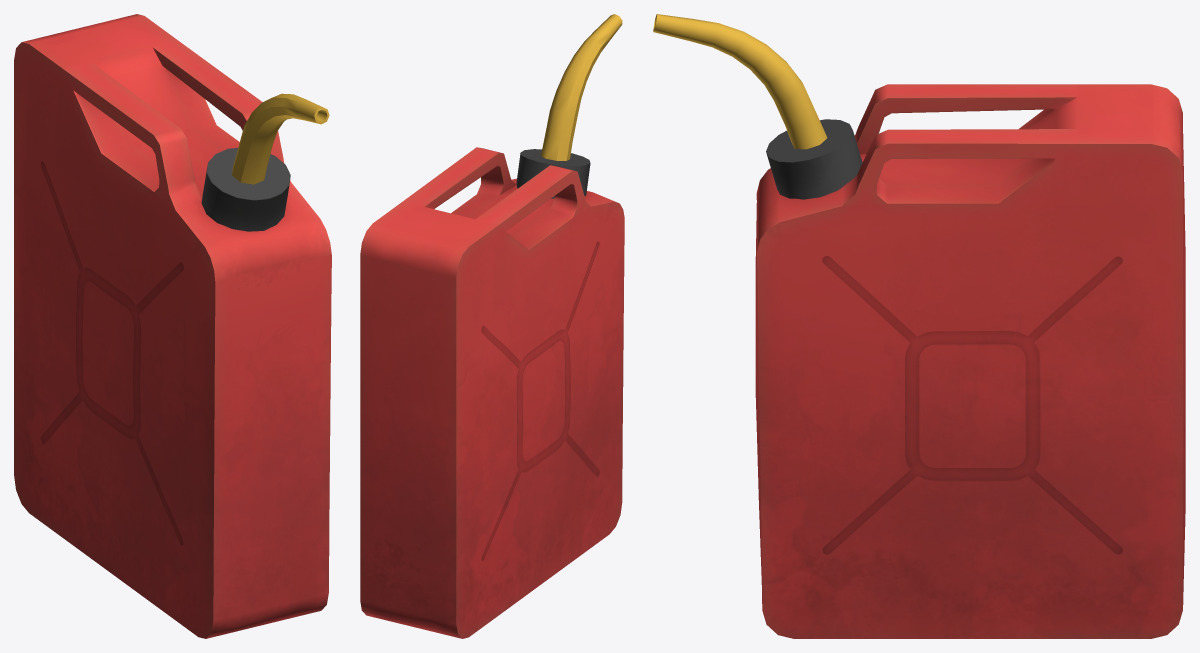
File: jerry can.glb
3 views of the same model, side by side, from view 1: azimuth 30°, elevation 25°; view 2: azimuth 150°, elevation 25°; view 3: azimuth 270°, elevation 25° (orthographic). The views are drawn at different scales.
Visible parts, largest first — view 1: Object_2; view 2: Object_2; view 3: Object_2.
Part boxes in pixels (left/top/right/bottom): Object_2: left=14, top=14, right=331, bottom=638; Object_2: left=360, top=14, right=624, bottom=638; Object_2: left=653, top=14, right=1185, bottom=638.
Bounding box in the file's own units: 16.31 × 68.24 × 55.41.
1 material, 1 textured.
